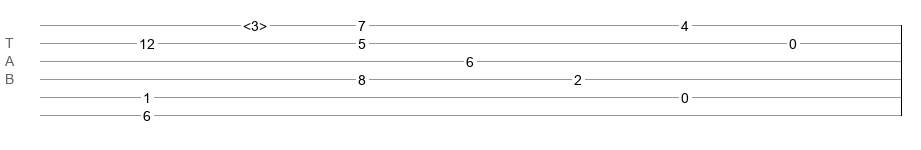0: (681, 90, 689, 100), (789, 36, 797, 46)
1: (143, 90, 151, 100)
12: (139, 36, 155, 46)
2: (574, 72, 582, 82)
4: (681, 18, 689, 28)
5: (358, 36, 366, 46)
6: (143, 108, 151, 118), (466, 54, 474, 64)
7: (358, 18, 366, 28)
8: (358, 72, 366, 82)
harmonic: (243, 18, 267, 28)
